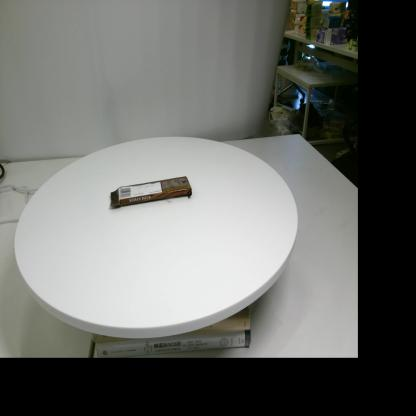Chocolate: (110, 176, 192, 207)
